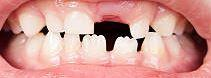Hypodontia: (92, 16, 134, 39)
